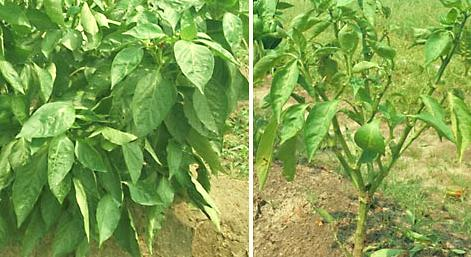Tomato leaf bacterial spot: (11, 133, 65, 226), (129, 61, 182, 135), (13, 99, 77, 143), (172, 36, 216, 97), (298, 98, 338, 165), (254, 108, 286, 190), (265, 51, 299, 122), (106, 44, 145, 96), (447, 87, 471, 169), (94, 188, 122, 248), (118, 131, 147, 188), (47, 134, 72, 193), (353, 119, 384, 166), (121, 176, 161, 211), (420, 27, 453, 67), (30, 60, 56, 100), (331, 0, 362, 11)
